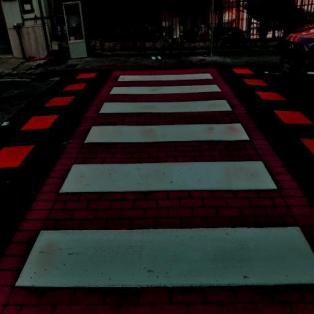Paso de Cebra: (57, 122, 282, 196), (98, 84, 237, 113)
